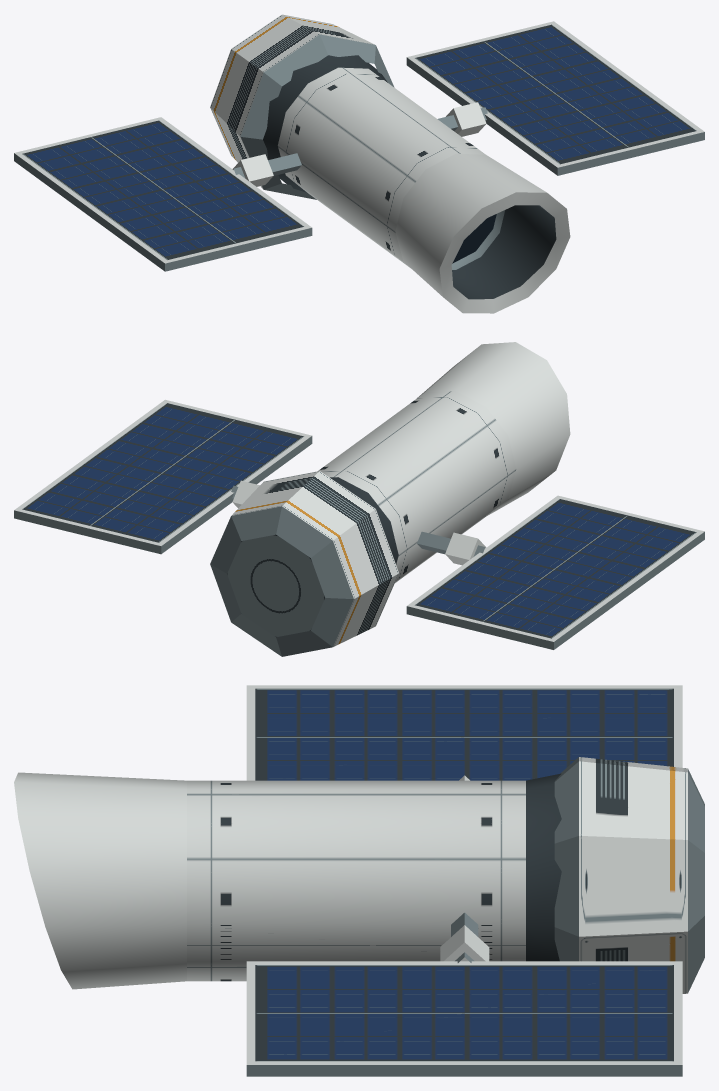
Rendered from Hubble_Telescope_LOD2.glb.
3 renders of one model, top to bottom at view 1: azimuth 30°, elevation 25°; view 2: azimuth 150°, elevation 25°; view 3: azimuth 270°, elevation 25°, orthographic. The views are drawn at different scales.
Visible parts, largest first — view 1: Telescope_Body, Solar_Panel_L, Solar_Panel_R; view 2: Telescope_Body, Solar_Panel_L, Solar_Panel_R; view 3: Telescope_Body, Solar_Panel_R, Solar_Panel_L.
Part boxes in pixels (left/top/right/bottom): Telescope_Body: left=210, top=14, right=570, bottom=313; Solar_Panel_L: left=14, top=117, right=312, bottom=271; Solar_Panel_R: left=406, top=21, right=704, bottom=175; Telescope_Body: left=210, top=342, right=570, bottom=656; Solar_Panel_L: left=406, top=495, right=704, bottom=649; Solar_Panel_R: left=14, top=399, right=312, bottom=554; Telescope_Body: left=14, top=757, right=704, bottom=993; Solar_Panel_R: left=246, top=961, right=682, bottom=1076; Solar_Panel_L: left=246, top=685, right=682, bottom=780.
Bounding box in the file's own units: 6.6 × 1.94 × 5.08.
1 material, 1 textured.
